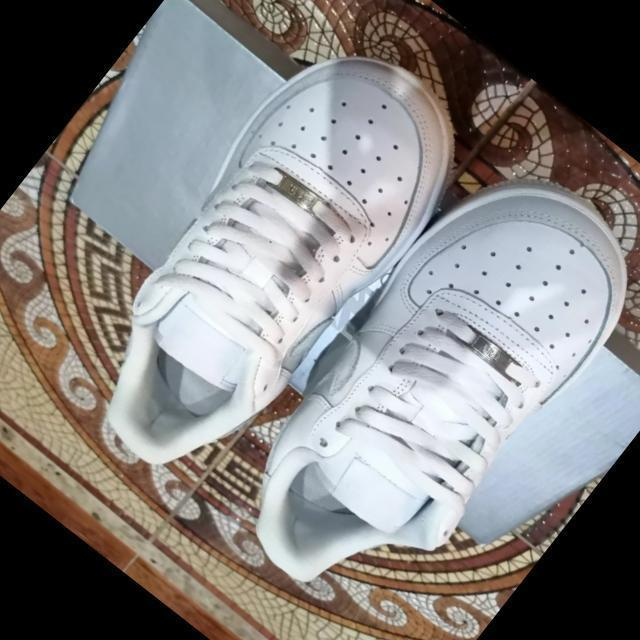nike fake air force: (35, 7, 496, 515), (189, 121, 640, 640)
